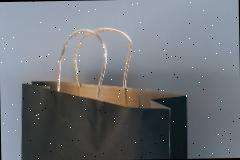paper: (20, 79, 187, 160)
